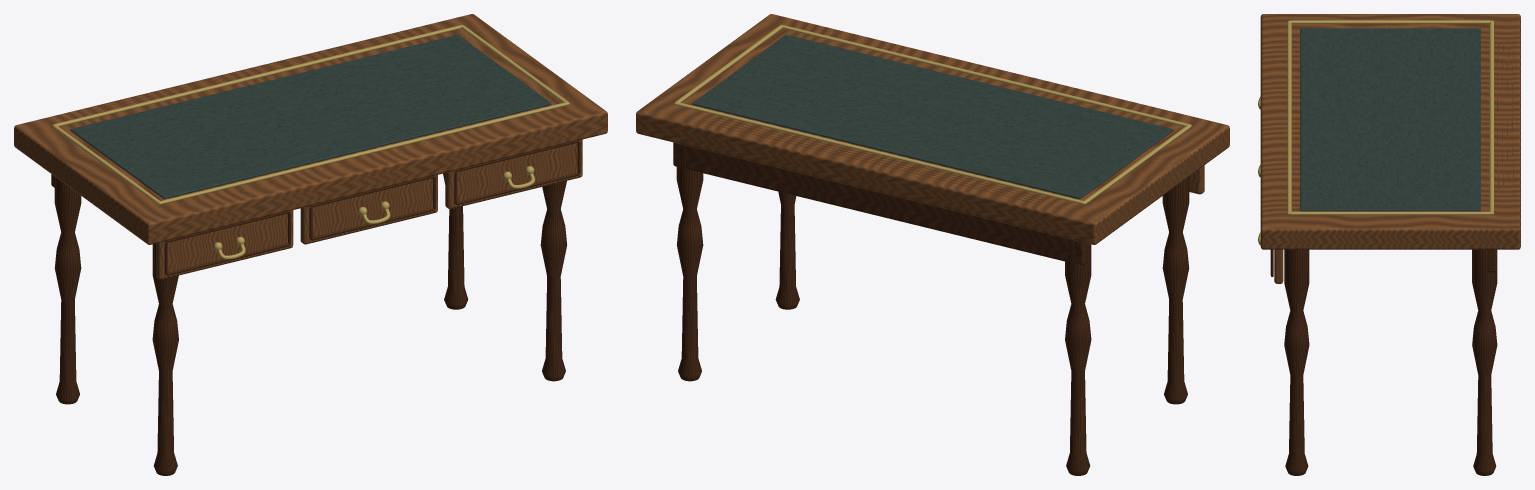
Rendered from writing-desk.glb.
3 renders of one model, left to right at view 1: azimuth 30°, elevation 25°; view 2: azimuth 150°, elevation 25°; view 3: azimuth 270°, elevation 25°, orthographic. The views are drawn at different scales.
Parts seen in each view (by area): view 1: writing-desk; view 2: writing-desk; view 3: writing-desk.
Boxes of the visible parts, left/top/right/bottom form: writing-desk: left=14, top=14, right=607, bottom=475; writing-desk: left=636, top=14, right=1229, bottom=475; writing-desk: left=1258, top=14, right=1520, bottom=475.
Bounding box in the file's own units: 1.4 × 0.8 × 0.72.
Materials: 4 (3 with a texture image).
